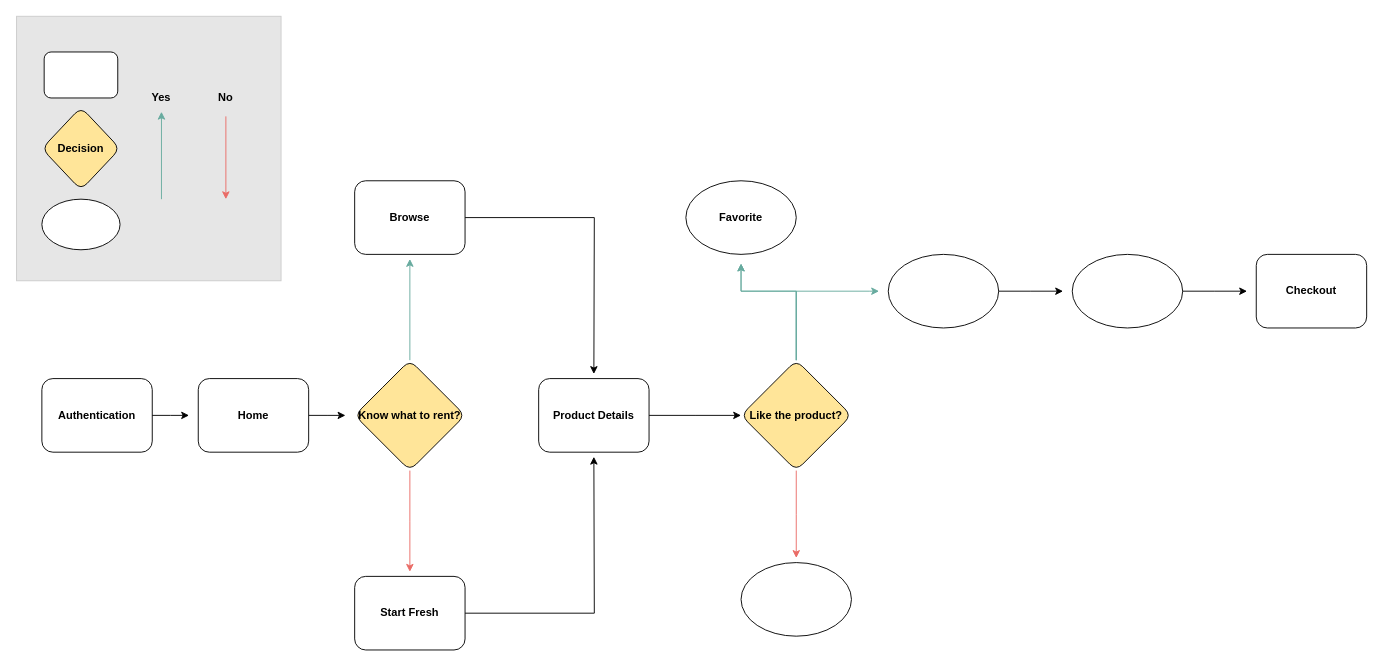
The diagram is 1383 pixels wide and 666 high, and some of its shapes have lost their labels. Each missing label, with the centre of its shape:
Action: [80,224]
Continue to browse: [795,599]
Page: [80,74]
Rent: [943,290]
Select rental dates, review details: [1127,290]
